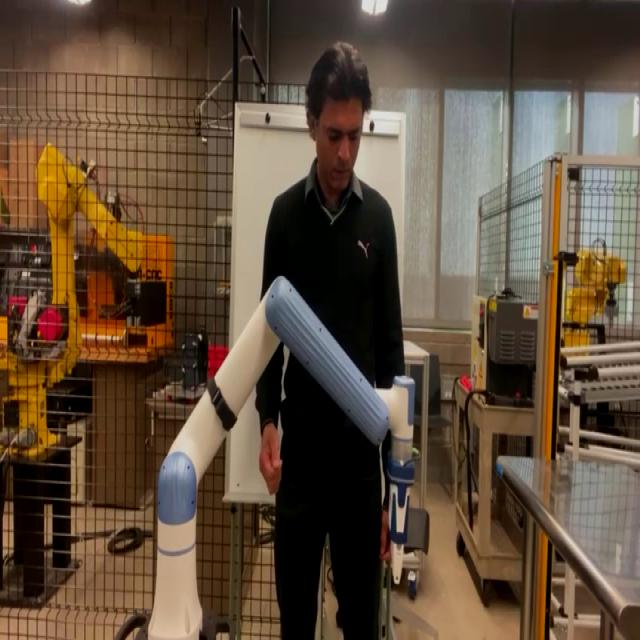robot: (115, 274, 430, 638)
